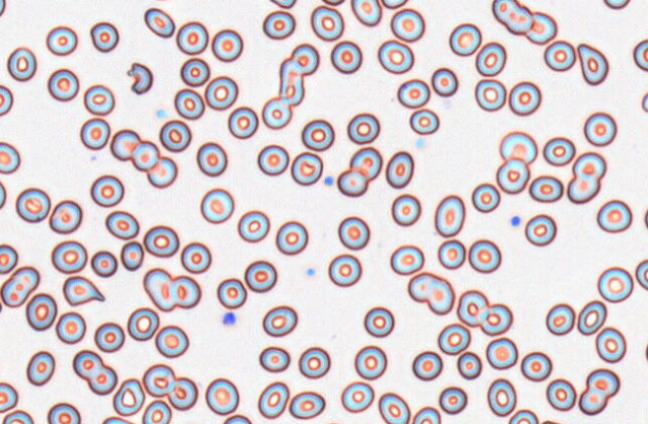PLT: (222, 312, 236, 326), (415, 137, 427, 151), (323, 175, 335, 187), (154, 108, 167, 119), (510, 215, 521, 227), (305, 267, 317, 276)
RBC: (142, 267, 201, 312), (566, 151, 606, 204), (407, 271, 455, 315), (72, 349, 117, 395), (578, 368, 620, 415), (0, 265, 40, 307), (491, 0, 533, 34), (434, 194, 465, 237), (204, 377, 239, 415), (597, 266, 633, 302), (377, 39, 414, 74), (499, 130, 537, 164), (112, 377, 145, 416), (15, 187, 50, 223), (199, 187, 234, 223), (50, 240, 87, 274), (456, 289, 489, 327), (278, 58, 304, 106), (25, 292, 57, 331), (390, 7, 425, 42), (596, 199, 632, 233), (310, 5, 344, 41), (257, 381, 289, 419), (154, 324, 189, 358), (204, 75, 238, 110), (583, 111, 617, 146), (496, 158, 529, 194), (143, 224, 179, 257), (354, 344, 387, 380), (508, 80, 541, 116), (486, 377, 516, 416), (142, 363, 176, 397), (327, 253, 361, 287), (478, 302, 513, 335), (49, 199, 82, 234), (468, 238, 501, 273), (275, 220, 308, 255), (337, 215, 370, 250), (262, 304, 297, 337), (595, 326, 626, 363), (349, 146, 382, 180), (437, 322, 471, 355), (290, 151, 323, 185), (90, 174, 124, 207), (340, 380, 374, 413), (448, 22, 481, 56), (176, 20, 208, 55), (385, 150, 414, 188), (301, 118, 334, 151), (237, 209, 270, 242), (244, 259, 277, 292), (525, 11, 557, 45), (127, 307, 159, 341), (211, 28, 243, 62), (346, 112, 380, 144), (330, 40, 362, 74), (389, 244, 424, 275), (196, 141, 227, 176), (475, 41, 506, 76), (577, 299, 607, 335), (288, 390, 325, 419), (159, 119, 191, 152), (485, 337, 518, 369), (257, 143, 289, 176), (543, 39, 576, 71), (297, 346, 330, 378), (524, 213, 556, 246), (47, 68, 79, 101), (474, 78, 506, 111), (167, 376, 198, 410), (105, 209, 139, 240), (6, 46, 36, 81), (26, 350, 55, 386), (378, 392, 410, 424), (83, 83, 115, 115), (110, 128, 141, 161), (146, 155, 177, 188), (261, 96, 292, 129), (55, 311, 86, 344), (545, 378, 576, 411), (173, 87, 204, 120), (390, 193, 421, 226), (79, 117, 110, 150), (227, 106, 258, 139), (528, 174, 563, 203), (93, 321, 125, 352), (180, 241, 211, 273), (216, 277, 247, 309), (143, 7, 175, 38), (45, 25, 77, 56), (542, 136, 575, 166), (545, 302, 575, 335), (397, 78, 430, 108), (411, 350, 442, 381), (363, 306, 394, 337), (520, 351, 552, 381), (262, 10, 295, 39), (130, 140, 160, 171), (89, 21, 119, 52), (336, 168, 368, 197), (290, 43, 319, 75), (180, 57, 210, 87), (471, 182, 500, 213), (437, 238, 465, 269), (258, 345, 290, 372), (438, 386, 467, 414), (409, 108, 439, 135), (350, 0, 381, 26), (431, 67, 458, 96), (141, 399, 171, 424), (47, 402, 81, 424), (120, 240, 144, 271), (90, 250, 117, 277), (456, 351, 482, 379), (0, 141, 20, 174), (0, 381, 18, 413), (0, 243, 18, 274), (411, 406, 441, 423), (633, 38, 648, 71), (2, 409, 34, 424), (507, 409, 538, 424), (0, 83, 13, 116), (635, 258, 648, 290), (99, 415, 137, 424), (221, 414, 253, 424), (602, 0, 631, 9), (269, 0, 297, 9), (381, 0, 408, 9), (0, 179, 6, 209), (641, 89, 648, 113), (320, 0, 345, 6), (641, 404, 648, 424), (539, 419, 565, 424), (644, 201, 648, 232), (313, 421, 348, 424), (0, 0, 6, 16), (645, 335, 648, 367), (149, 0, 174, 2)
Schistocyte: (576, 43, 611, 87), (61, 276, 105, 305), (127, 63, 154, 97)
